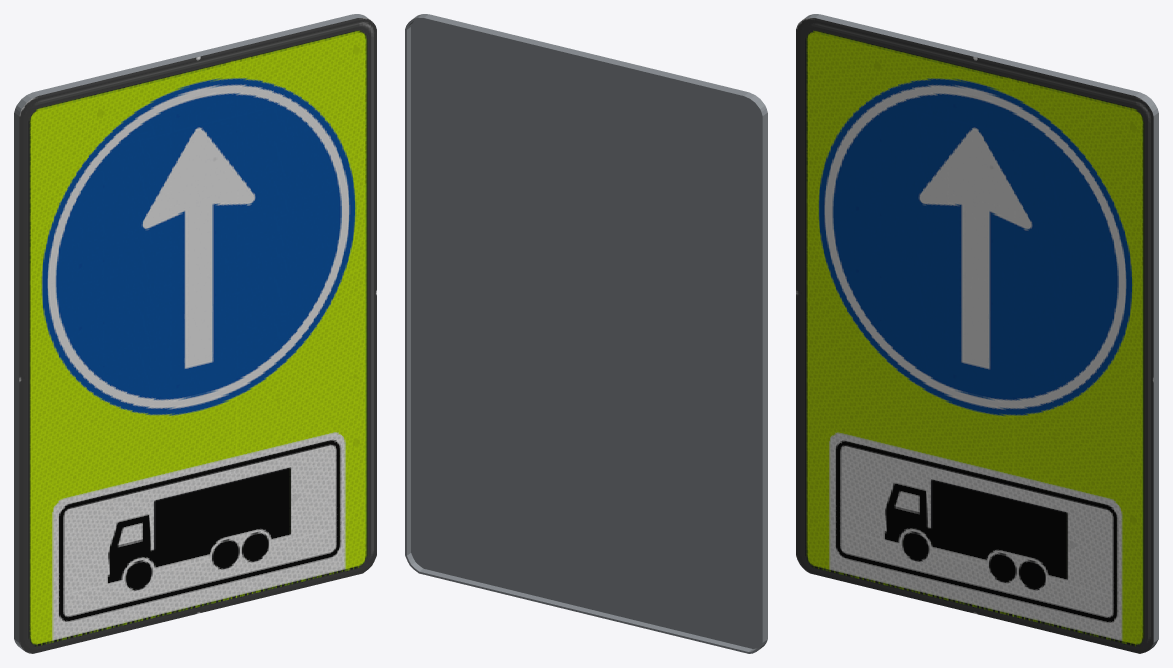
The picture shows the model from 3 angles, left to right: view 1: azimuth 30°, elevation 25°; view 2: azimuth 150°, elevation 25°; view 3: azimuth 330°, elevation 25°; orthographic projection.
Visible parts, largest first — view 1: cat_c0d1d6a0b7e16a08; view 2: cat_c0d1d6a0b7e16a08; view 3: cat_c0d1d6a0b7e16a08.
Part boxes in pixels (x1,y1,x2,y2): cat_c0d1d6a0b7e16a08: [14, 14, 376, 653]; cat_c0d1d6a0b7e16a08: [405, 14, 767, 653]; cat_c0d1d6a0b7e16a08: [796, 14, 1158, 653].
Size of the model in its own units: 0.6 by 0.015 by 0.8927.
Materials: 2 (1 with a texture image).
